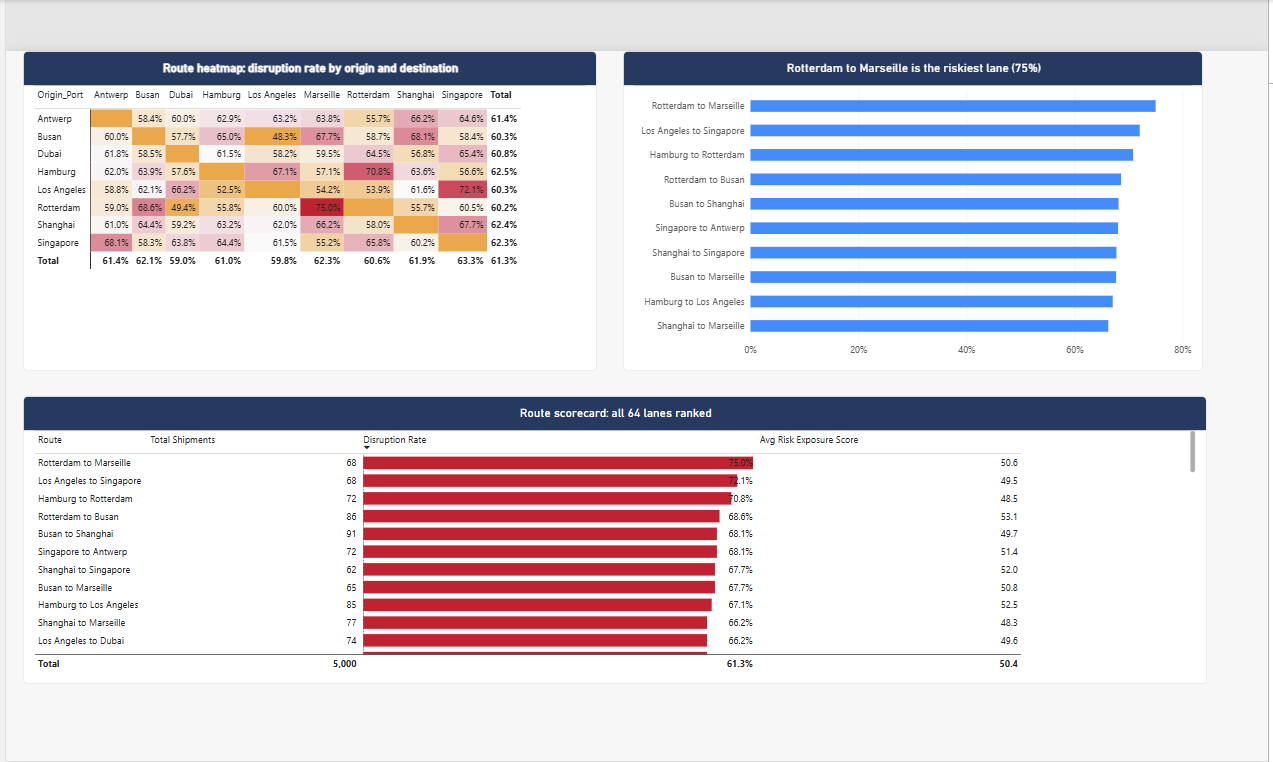

The dashboard page shown, as its layout file describes it:
{"tool":"powerbi","page":{"name":"Route Risk","canvas":[1920,1080],"ordinal":1},"visuals":[{"type":"pivotTable","title":"Route heatmap: disruption rate by origin and destination","fields":{"Columns":["Shipments.Destination_Port"],"Rows":["Shipments.Origin_Port"],"Values":["_Measures.Disruption Rate"]},"box":[25.9,0,873.3,486.8],"z":0},{"type":"clusteredBarChart","title":"Rotterdam to Marseille is the riskiest lane (75%)","fields":{"Category":["Shipments.Route"],"Y":["_Measures.Disruption Rate"]},"box":[938.7,0,882.4,486.8],"z":1000},{"type":"tableEx","title":"Route scorecard: all 64 lanes ranked","fields":{"Values":["Shipments.Route","_Measures.Total Shipments","_Measures.Disruption Rate","_Measures.Avg Risk Exposure Score"]},"box":[25.9,524.9,1801.3,438.2],"z":2000}]}

Visuals, with their boxes on the page's 1920x1080 design canvas (x1, y1, x2, y2). These are canvas units, not pixel positions in the 1273x762 screenshot, which may show the page scaled, cropped or inside an application window:
"Route heatmap: disruption rate by origin and destination" pivotTable: [x1=26, y1=0, x2=899, y2=487]
"Rotterdam to Marseille is the riskiest lane (75%)" clusteredBarChart: [x1=939, y1=0, x2=1821, y2=487]
"Route scorecard: all 64 lanes ranked" tableEx: [x1=26, y1=525, x2=1827, y2=963]
